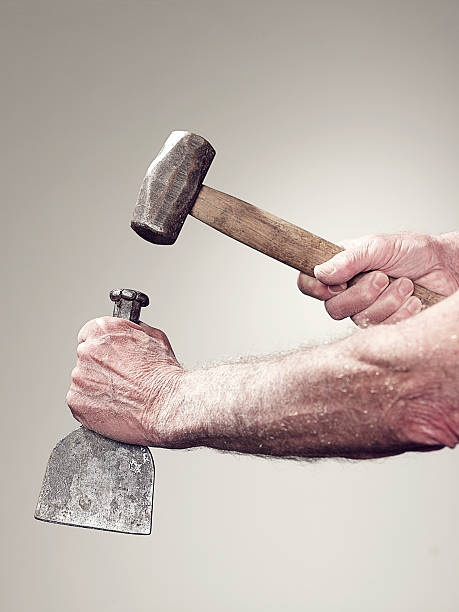hammer: (130, 126, 438, 303)
